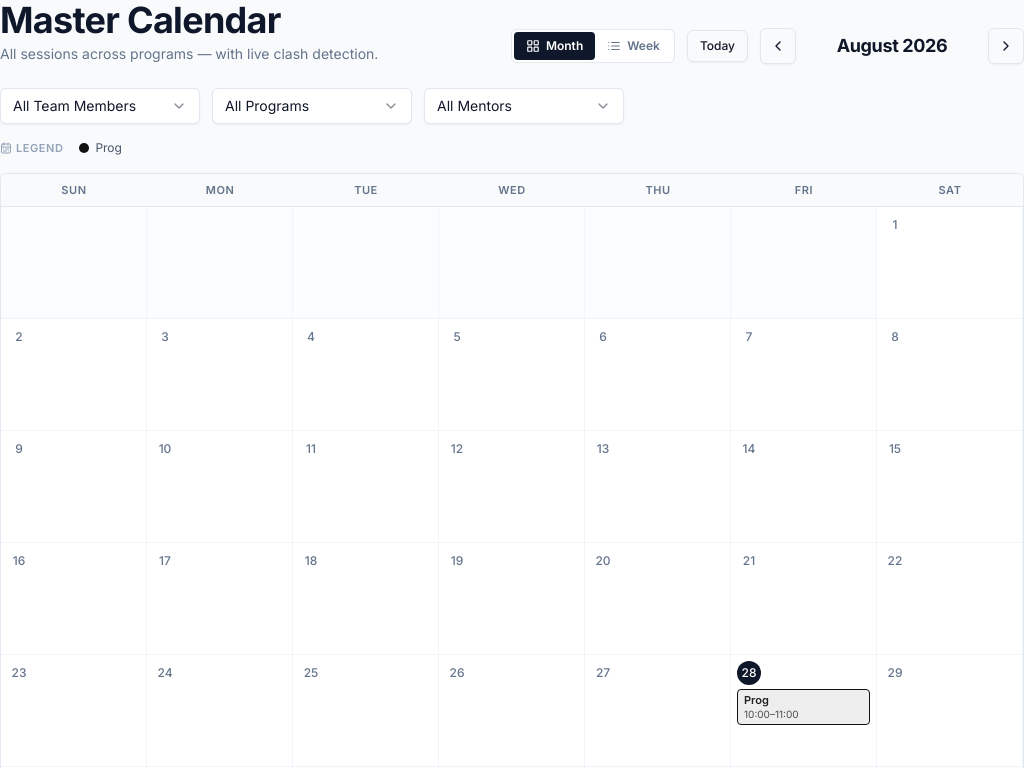
Scenario: CalendarPage › clicking a session block opens the detail panel
Click the button with test id "cal-session-block": [804, 707] box x1=737 y1=689 x2=870 y2=725
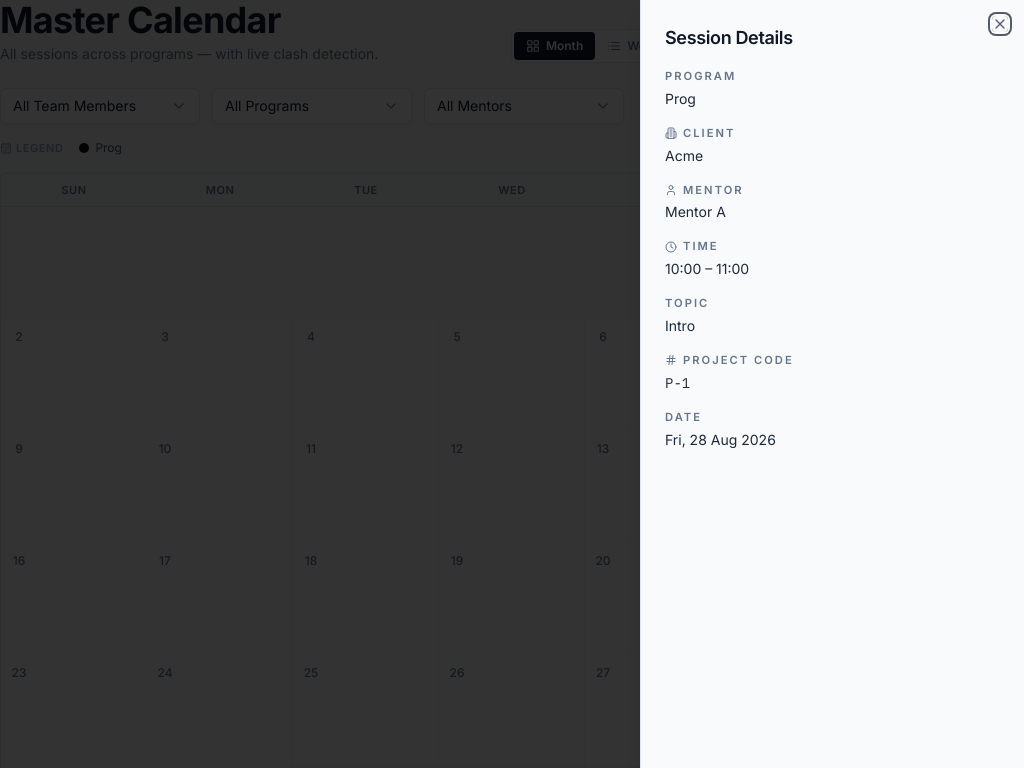
Expected: the dialog with test id "session-detail-panel" is shown, x1=640 y1=0 x2=1023 y2=767
Expected: the text "Intro" is shown, x1=665 y1=317 x2=695 y2=334
